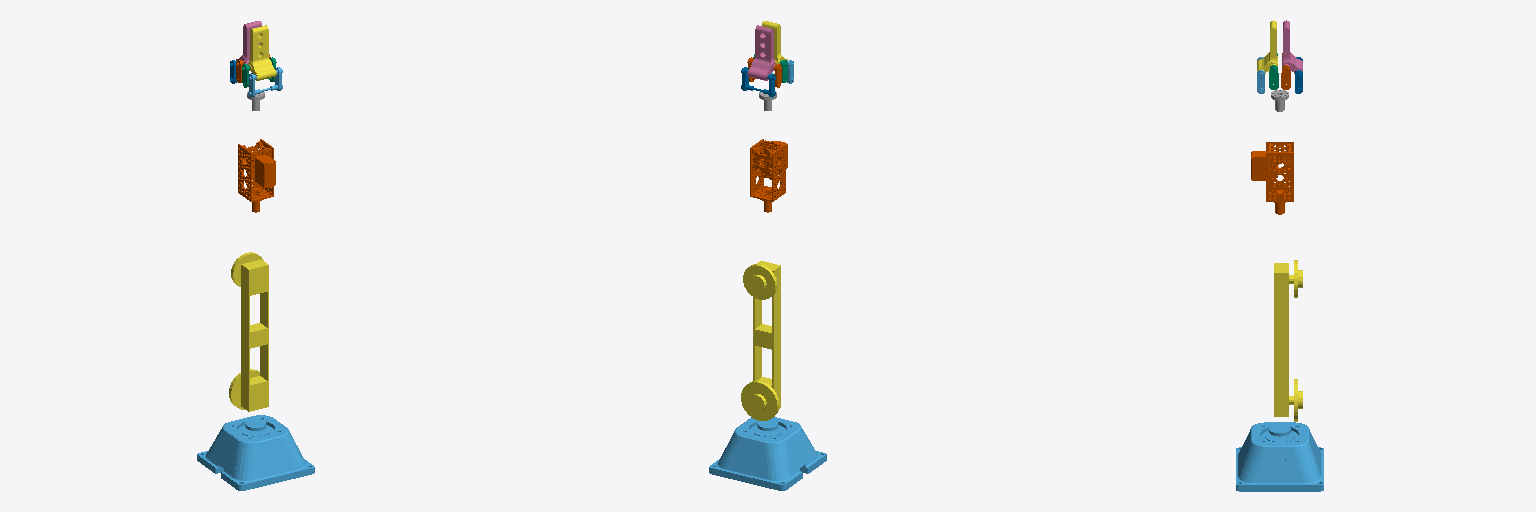
URDF robot description (kbot_arm):
<?xml version="1.0" ?>
<!-- =================================================================================== -->
<!-- |    This document was autogenerated by xacro from kbot.urdf.xacro                | -->
<!-- |    EDITING THIS FILE BY HAND IS NOT RECOMMENDED                                 | -->
<!-- =================================================================================== -->
<robot name="kbot_arm" xmlns:xacro="http://ros.org/wiki/xacro">
  <!-- world frame -->
  <link name="world"/>
  <joint name="virtual_joint" type="fixed">
    <origin rpy="0 0 0" xyz="0 0 0"/>
    <parent link="world"/>
    <child link="base_link"/>
  </joint>
  <link name="base_link">
    <visual>
      <origin rpy="0 0 0" xyz="0 0 0"/>
      <geometry>
        <mesh filename="package://kbot_description/meshes/arm/visual/base_link.stl"/>
      </geometry>
    </visual>
    <collision>
      <origin rpy="0 0 0" xyz="0 0 0"/>
      <geometry>
        <mesh filename="package://kbot_description/meshes/arm/visual/base_link.stl"/>
      </geometry>
    </collision>
  </link>
  <link name="link_1">
    <inertial>
      <origin rpy="0 0 0" xyz="0 0 0"/>
      <mass value="0.019005"/>
      <inertia ixx="0" ixy="0" ixz="0" iyy="0" iyz="0" izz="0"/>
    </inertial>
    <visual>
      <origin rpy="0 0 0" xyz="0 0 0"/>
      <geometry>
        <mesh filename="package://kbot_description/meshes/arm/visual/proximal_arm_roll.stl"/>
      </geometry>
    </visual>
    <collision>
      <origin rpy="0 0 0" xyz="0 0 0"/>
      <geometry>
        <mesh filename="package://kbot_description/meshes/arm/visual/proximal_arm_roll.stl"/>
      </geometry>
    </collision>
  </link>
  <link name="link_2">
    <inertial>
      <origin rpy="0 0 0" xyz="-0.0925593094846925 -0.00915463972546963 -9.9500450073132E-17"/>
      <mass value="0.130669135830331"/>
      <inertia ixx="0" ixy="0" ixz="0" iyy="0" iyz="0" izz="0"/>
    </inertial>
    <visual>
      <origin rpy="0 0 0" xyz="0 0 0"/>
      <geometry>
        <mesh filename="package://kbot_description/meshes/arm/visual/proximal_arm_pitch.stl"/>
      </geometry>
    </visual>
    <collision>
      <origin rpy="0 0 0" xyz="0 0 0"/>
      <geometry>
        <mesh filename="package://kbot_description/meshes/arm/visual/proximal_arm_pitch.stl"/>
      </geometry>
    </collision>
  </link>
  <link name="link_3">
    <visual>
      <origin rpy="0 0 0" xyz="0 0 0"/>
      <geometry>
        <mesh filename="package://kbot_description/meshes/arm/visual/medial_arm_pitch.stl"/>
      </geometry>
    </visual>
    <collision>
      <origin rpy="0 0 0" xyz="0 0 0"/>
      <geometry>
        <mesh filename="package://kbot_description/meshes/arm/visual/medial_arm_pitch.stl"/>
      </geometry>
    </collision>
  </link>
  <link name="link_4">
    <visual>
      <origin rpy="0 0 0" xyz="0 0 0"/>
      <geometry>
        <mesh filename="package://kbot_description/meshes/arm/visual/medial_arm_roll.stl"/>
      </geometry>
    </visual>
    <collision>
      <origin rpy="0 0 0" xyz="0 0 0"/>
      <geometry>
        <mesh filename="package://kbot_description/meshes/arm/visual/medial_arm_roll.stl"/>
      </geometry>
    </collision>
  </link>
  <link name="link_5">
    <visual>
      <origin rpy="0 0 0" xyz="0 0 0"/>
      <geometry>
        <mesh filename="package://kbot_description/meshes/arm/visual/distal_arm_pitch.stl"/>
      </geometry>
    </visual>
    <collision>
      <origin rpy="0 0 0" xyz="0 0 0"/>
      <geometry>
        <mesh filename="package://kbot_description/meshes/arm/visual/distal_arm_pitch.stl"/>
      </geometry>
    </collision>
  </link>
  <link name="link_6">
    <visual>
      <origin rpy="0 0 0" xyz="0 0 0"/>
      <geometry>
        <mesh filename="package://kbot_description/meshes/arm/visual/distal_arm_roll.stl"/>
      </geometry>
    </visual>
    <collision>
      <origin rpy="0 0 0" xyz="0 0 0"/>
      <geometry>
        <mesh filename="package://kbot_description/meshes/arm/visual/distal_arm_roll.stl"/>
      </geometry>
    </collision>
  </link>
  <!-- joints: main serial chain -->
  <joint name="joint_1" type="revolute">
    <origin rpy="0 0 0" xyz="0 0 0.068"/>
    <parent link="base_link"/>
    <child link="link_1"/>
    <axis xyz="0 0 1"/>
    <limit effort="0" lower="-3.14159" upper="3.14159" velocity="3.67"/>
  </joint>
  <joint name="joint_2" type="revolute">
    <origin rpy="0 0 0" xyz="0 0 0.04448"/>
    <parent link="link_1"/>
    <child link="link_2"/>
    <axis xyz="0 1 0"/>
    <limit effort="0" lower="-2.15" upper="2.15" velocity="3.32"/>
  </joint>
  <joint name="joint_3" type="revolute">
    <origin rpy="0 0 0" xyz="0 0 0.18744"/>
    <parent link="link_2"/>
    <child link="link_3"/>
    <axis xyz="0 1 0"/>
    <limit effort="0" lower="-2.2" upper="2.05" velocity="3.67"/>
  </joint>
  <joint name="joint_4" type="revolute">
    <origin rpy="0 0 0" xyz="0 0 0.10293"/>
    <parent link="link_3"/>
    <child link="link_4"/>
    <axis xyz="0 0 1"/>
    <limit effort="0" lower="-3.14159" upper="3.14159" velocity="6.98"/>
  </joint>
  <joint name="joint_5" type="revolute">
    <origin rpy="0 0 0" xyz="0 0 0.08255"/>
    <parent link="link_4"/>
    <child link="link_5"/>
    <axis xyz="0 1 0"/>
    <limit effort="0" lower="-2" upper="2.3" velocity="6.98"/>
  </joint>
  <joint name="joint_6" type="revolute">
    <origin rpy="0 0 0" xyz="0 0 0.07675"/>
    <parent link="link_5"/>
    <child link="link_6"/>
    <axis xyz="0 0 1"/>
    <limit effort="0" lower="-3.14159" upper="3.14159" velocity="10.47"/>
  </joint>
  <!-- links: main serial chain -->
  <link name="palm">
    <visual>
      <origin rpy="0 0 0" xyz="0 0 0"/>
      <geometry>
        <mesh filename="package://kbot_description/meshes/gripper/visual/kbot_gripper_base.stl"/>
      </geometry>
    </visual>
    <collision>
      <origin rpy="0 0 0" xyz="0 0 0"/>
      <geometry>
        <mesh filename="package://kbot_description/meshes/gripper/visual/kbot_gripper_base.stl"/>
      </geometry>
    </collision>
  </link>
  <link name="left_outer_link">
    <visual>
      <origin rpy="0 0 0" xyz="0 0 0"/>
      <geometry>
        <mesh filename="package://kbot_description/meshes/gripper/visual/kbot_gripper_leftouterlink.stl"/>
      </geometry>
    </visual>
    <collision>
      <origin rpy="0 0 0" xyz="0 0 0"/>
      <geometry>
        <mesh filename="package://kbot_description/meshes/gripper/visual/kbot_gripper_leftouterlink.stl"/>
      </geometry>
    </collision>
  </link>
  <link name="left_inner_link">
    <visual>
      <origin rpy="0 0 0" xyz="0 0 0"/>
      <geometry>
        <mesh filename="package://kbot_description/meshes/gripper/visual/kbot_gripper_leftinnerlink.stl"/>
      </geometry>
    </visual>
    <collision>
      <origin rpy="0 0 0" xyz="0 0 0"/>
      <geometry>
        <mesh filename="package://kbot_description/meshes/gripper/visual/kbot_gripper_leftinnerlink.stl"/>
      </geometry>
    </collision>
  </link>
  <link name="left_finger">
    <visual>
      <origin rpy="0 0 0" xyz="0 0 0"/>
      <geometry>
        <mesh filename="package://kbot_description/meshes/gripper/visual/kbot_gripper_leftfinger.stl"/>
      </geometry>
    </visual>
    <collision>
      <origin rpy="0 0 0" xyz="0 0 0"/>
      <geometry>
        <mesh filename="package://kbot_description/meshes/gripper/visual/kbot_gripper_leftfinger.stl"/>
      </geometry>
    </collision>
  </link>
  <link name="right_outer_link">
    <visual>
      <origin rpy="0 0 0" xyz="0 0 0"/>
      <geometry>
        <mesh filename="package://kbot_description/meshes/gripper/visual/kbot_gripper_rightouterlink.stl"/>
      </geometry>
    </visual>
    <collision>
      <origin rpy="0 0 0" xyz="0 0 0"/>
      <geometry>
        <mesh filename="package://kbot_description/meshes/gripper/visual/kbot_gripper_rightouterlink.stl"/>
      </geometry>
    </collision>
  </link>
  <link name="right_inner_link">
    <visual>
      <origin rpy="0 0 0" xyz="0 0 0"/>
      <geometry>
        <mesh filename="package://kbot_description/meshes/gripper/visual/kbot_gripper_rightinnerlink.stl"/>
      </geometry>
    </visual>
    <collision>
      <origin rpy="0 0 0" xyz="0 0 0"/>
      <geometry>
        <mesh filename="package://kbot_description/meshes/gripper/visual/kbot_gripper_rightinnerlink.stl"/>
      </geometry>
    </collision>
  </link>
  <link name="right_finger">
    <visual>
      <origin rpy="0 0 0" xyz="0 0 0"/>
      <geometry>
        <mesh filename="package://kbot_description/meshes/gripper/visual/kbot_gripper_rightfinger.stl"/>
      </geometry>
    </visual>
    <collision>
      <origin rpy="0 0 0" xyz="0 0 0"/>
      <geometry>
        <mesh filename="package://kbot_description/meshes/gripper/visual/kbot_gripper_rightfinger.stl"/>
      </geometry>
    </collision>
  </link>
  <!-- joints: main serial chain -->
  <joint name="l_joint_0" type="revolute">
    <origin rpy="0 0 0" xyz="0 -0.0085 0.024"/>
    <parent link="palm"/>
    <child link="left_inner_link"/>
    <axis xyz="1 0 0"/>
    <limit effort="0" lower="0" upper="1.26" velocity="3.67"/>
  </joint>
  <joint name="l_joint_1" type="revolute">
    <origin rpy="0 0 0" xyz="0 -0.0265 0.016"/>
    <parent link="palm"/>
    <child link="left_outer_link"/>
    <axis xyz="1 0 0"/>
    <limit effort="0" lower="0" upper="1.26" velocity="3.67"/>
    <mimic joint="l_joint_0" multiplier="1" offset="0"/>
  </joint>
  <joint name="l_joint_2" type="revolute">
    <origin rpy="0 0 0" xyz="0 0 0.024"/>
    <parent link="left_inner_link"/>
    <child link="left_finger"/>
    <axis xyz="1 0 0"/>
    <limit effort="0" lower="0" upper="1.26" velocity="3.67"/>
    <mimic joint="l_joint_0" multiplier="-1" offset="0"/>
  </joint>
  <joint name="r_joint_0" type="revolute">
    <origin rpy="0 0 0" xyz="0 0.0085 0.024"/>
    <parent link="palm"/>
    <child link="right_inner_link"/>
    <axis xyz="1 0 0"/>
    <limit effort="0" lower="-1.26" upper="0" velocity="3.67"/>
  </joint>
  <joint name="r_joint_1" type="revolute">
    <origin rpy="0 0 0" xyz="0 0.0265 0.016"/>
    <parent link="palm"/>
    <child link="right_outer_link"/>
    <axis xyz="1 0 0"/>
    <limit effort="0" lower="0" upper="-1.26" velocity="3.67"/>
    <mimic joint="r_joint_0" multiplier="1" offset="0"/>
  </joint>
  <joint name="r_joint_2" type="revolute">
    <origin rpy="0 0 0" xyz="0 0 0.024"/>
    <parent link="right_inner_link"/>
    <child link="right_finger"/>
    <axis xyz="1 0 0"/>
    <limit effort="0" lower="0" upper="1.26" velocity="3.67"/>
    <mimic joint="r_joint_0" multiplier="-1" offset="0"/>
  </joint>
  <!-- tool 0 link to connect end effector -->
  <link name="tool0"/>
  <joint name="link_6-tool0" type="fixed">
    <origin rpy="0 0 0" xyz="0 0 0.02540"/>
    <parent link="link_6"/>
    <child link="tool0"/>
  </joint>
  <joint name="gripper_joint" type="fixed">
    <parent link="tool0"/>
    <child link="palm"/>
    <origin rpy="0 0 0" xyz="0 0 0"/>
  </joint>
</robot>

--- What the picture shows (computed from the rendered views, not written in the file) ---
The picture shows the robot from 3 angles, left to right: view 1: azimuth 30°, elevation 25°; view 2: azimuth 150°, elevation 25°; view 3: azimuth 270°, elevation 25°; orthographic projection.
Robot: kbot_arm — 16 links, 15 joints (12 revolute, 3 fixed); root link world; default pose: all joints at 0.
Visible links, largest first — view 1: base_link, link_2, link_4, left_finger; view 2: base_link, link_2, link_4, right_finger; view 3: base_link, link_2, link_4.
Link boxes in pixels (x1,y1,x2,y2): base_link: (197,415,314,490); link_2: (229,252,268,411); link_4: (238,139,275,212); left_finger: (248,25,276,80); base_link: (709,417,826,490); link_2: (741,261,780,420); link_4: (750,139,787,212); right_finger: (747,25,775,80); base_link: (1236,422,1323,491); link_2: (1274,260,1302,421); link_4: (1251,142,1293,214).
Size in the robot's own frame: 0.125 by 0.125 by 0.6951 metres.
Meshes: 14 distinct files referenced, 10 mesh visuals loaded (10 binary STL); not drawn: 4 (reference not matched to a file when rendering).